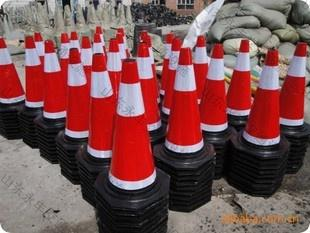cone_barrel: (106, 56, 159, 193), (163, 42, 205, 158), (241, 47, 285, 150), (85, 51, 113, 172), (62, 38, 90, 145), (200, 40, 229, 133), (279, 42, 308, 131), (225, 39, 254, 127), (136, 40, 159, 133), (40, 37, 65, 121), (21, 34, 44, 110), (159, 36, 180, 117)
